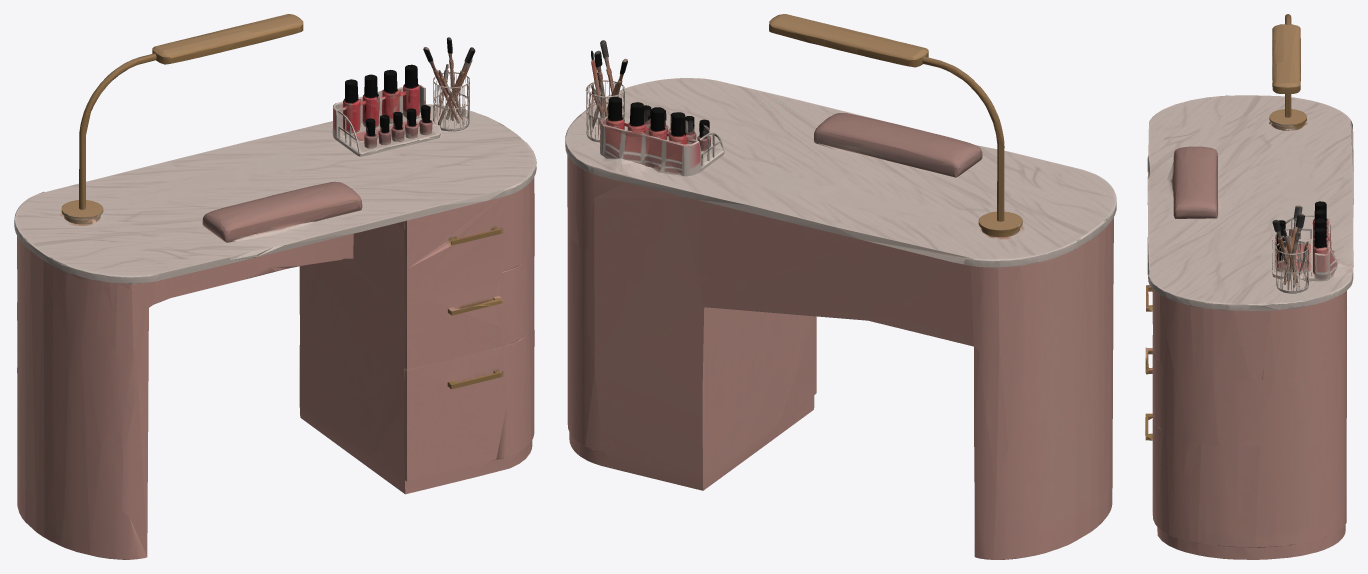
The model's file is manicure-desk.glb.
The picture shows the model from 3 angles, left to right: view 1: azimuth 30°, elevation 25°; view 2: azimuth 150°, elevation 25°; view 3: azimuth 270°, elevation 25°; orthographic projection. The views are drawn at different scales.
Visible parts, largest first — view 1: Mesh_0; view 2: Mesh_0; view 3: Mesh_0.
Part boxes in pixels (x1,y1,x2,y2): Mesh_0: (14,14,536,559); Mesh_0: (565,14,1116,559); Mesh_0: (1145,14,1353,559).
Bounding box in the file's own units: 1.9 × 1.65 × 0.7981.
Materials: 1 (1 with a texture image).
